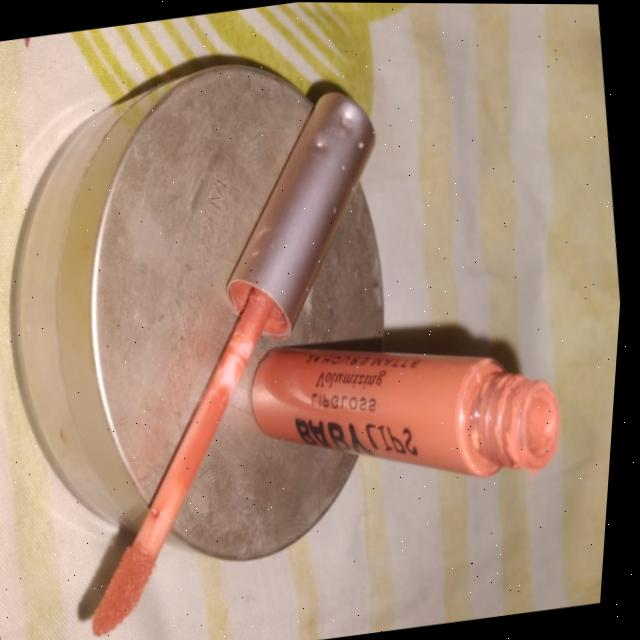lip gloss: (13, 60, 625, 640), (226, 278, 578, 522), (59, 515, 195, 640)
